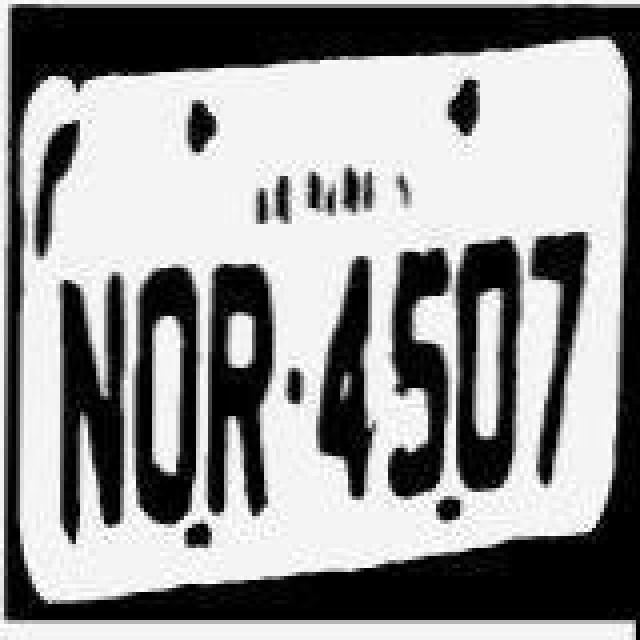4: (310, 248, 382, 512)
5: (382, 238, 454, 498)
7: (522, 208, 594, 496)
N: (52, 258, 128, 542)
O: (128, 264, 204, 528), (454, 228, 526, 492)
R: (200, 256, 284, 520)
